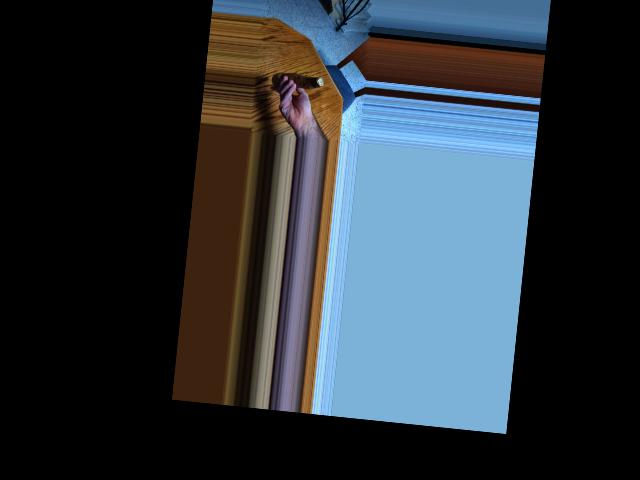sweet_potato: (274, 67, 321, 93)
